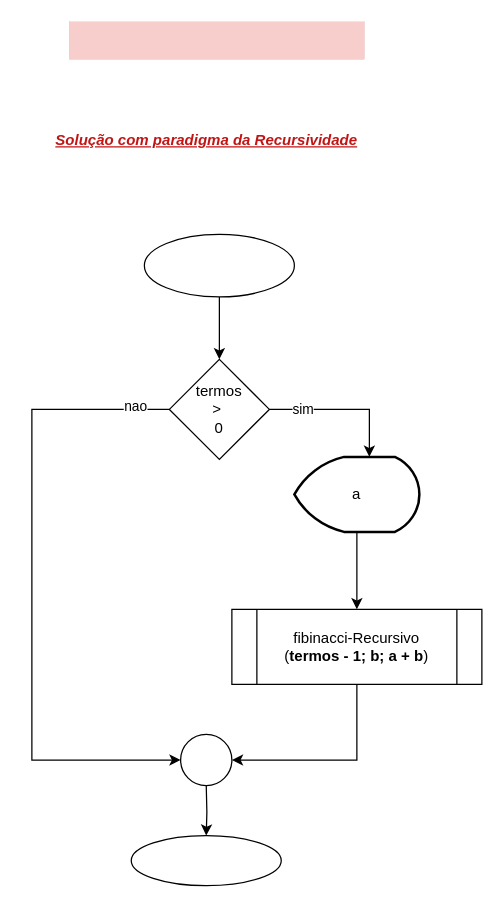
Some shapes in this 504 by 908 pixel diagram are drawn without their labels. The shapes that lost their labels are listed below. From the top down, each one's centre as x and y in pixels, then its label:
At (x=216, y=40): "Solução: Fibonacci".
At (x=218, y=265): "fibonacci-Recursivo (termos, a , b)".
